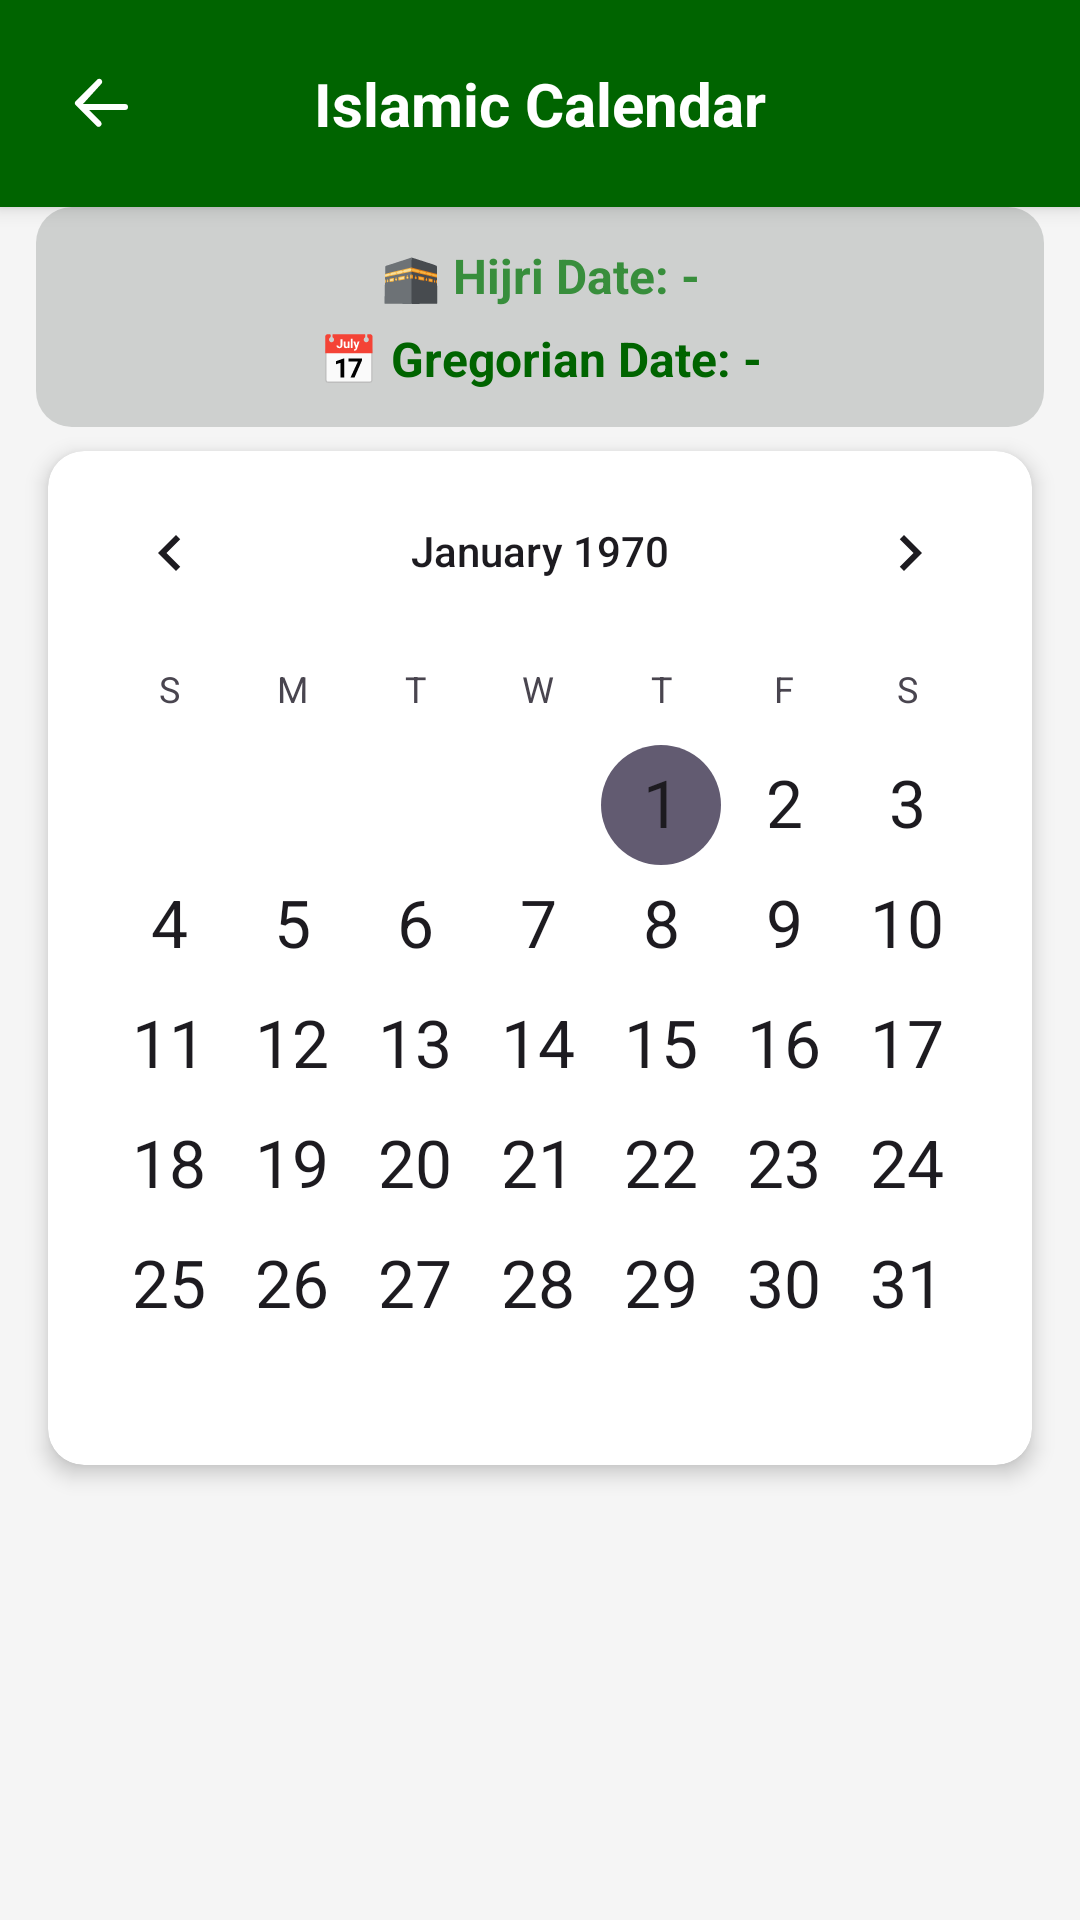

Icons on this 1080px x 1920px Android screen, each with the point to tap as [x,y]:
back: [101,102]
